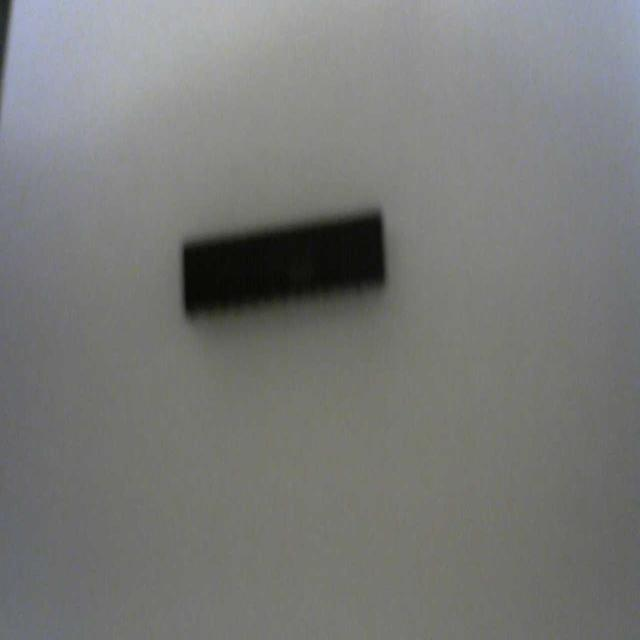atmega: (179, 202, 389, 324)
